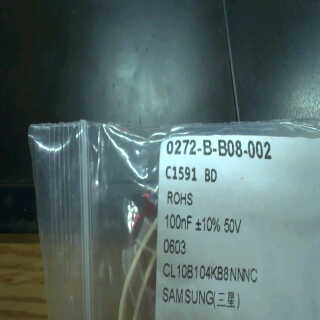100nF: (165, 212, 194, 230)
